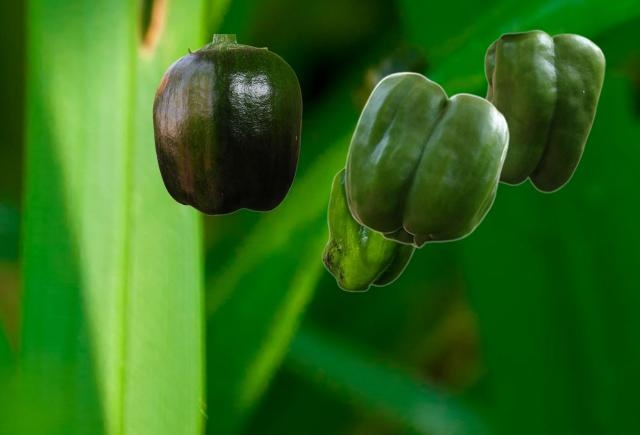bell_pepper: (344, 71, 508, 247), (152, 34, 301, 214), (483, 29, 605, 192), (321, 167, 416, 291)
